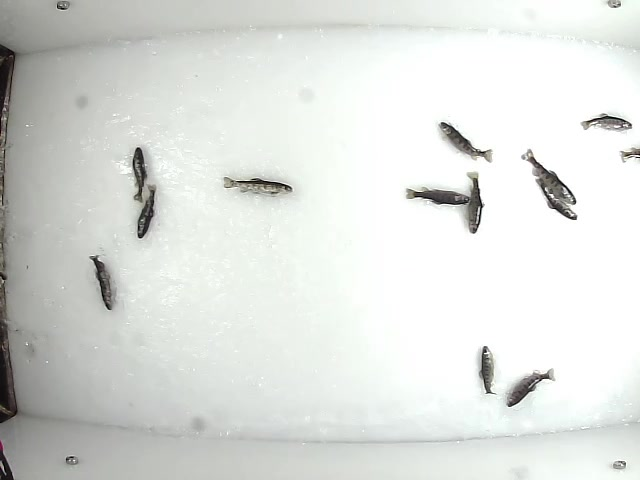fish: (520, 147, 581, 207), (434, 120, 494, 164), (504, 366, 558, 410), (534, 177, 578, 218), (88, 251, 116, 312), (133, 181, 161, 241), (221, 175, 292, 198), (404, 184, 473, 207), (578, 111, 634, 136), (129, 144, 149, 204), (466, 169, 484, 234), (477, 344, 499, 397)
